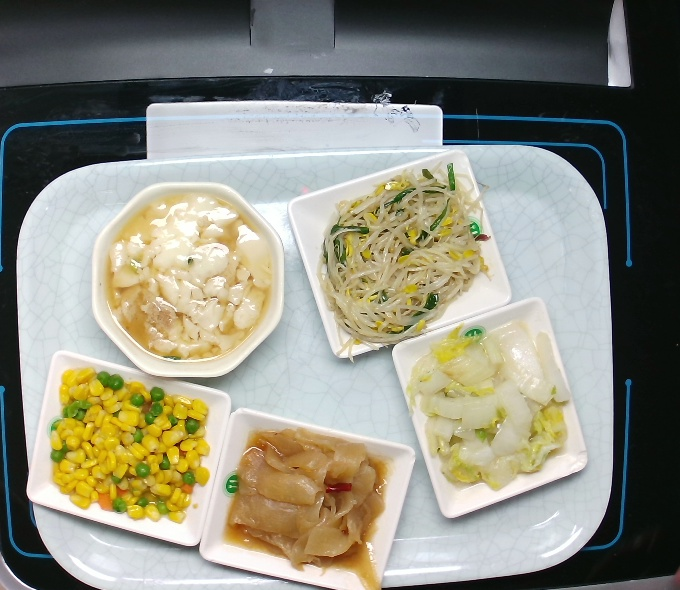wcq-DaBaiCai: (401, 316, 575, 494)
wcq-DongGua: (218, 423, 395, 590)
wcq-DouYa: (308, 153, 496, 368)
wcq-ShuiZhengDan: (93, 184, 283, 371)
wcq-TianMiTianDou: (43, 361, 219, 529)
